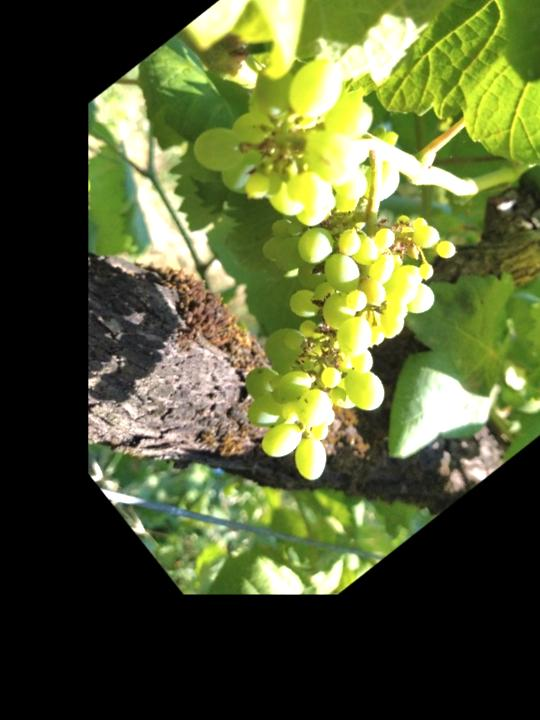grape: (155, 141, 521, 499), (173, 29, 418, 272)
